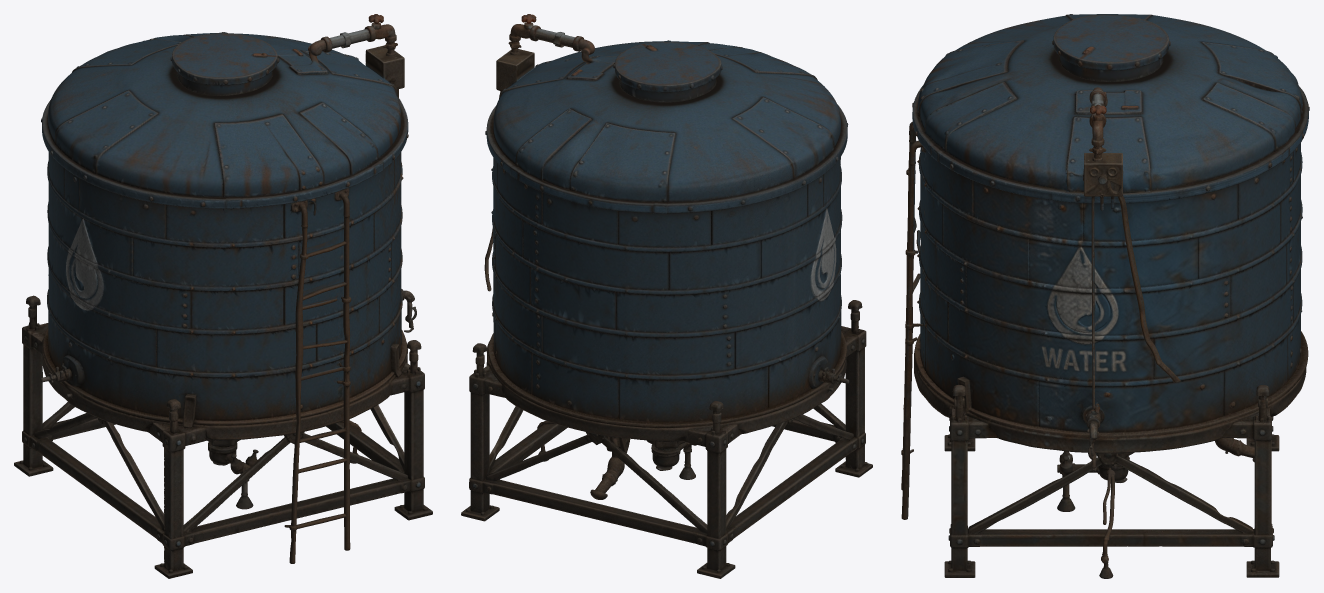
Rendered from tank_water.glb.
The picture shows the model from 3 angles, left to right: view 1: azimuth 30°, elevation 25°; view 2: azimuth 150°, elevation 25°; view 3: azimuth 270°, elevation 25°; orthographic projection. The views are drawn at different scales.
Parts seen in each view (by area): view 1: tank_water; view 2: tank_water; view 3: tank_water.
Part boxes in pixels (bbox=[...]): tank_water: bbox=[14, 14, 432, 578]; tank_water: bbox=[461, 14, 872, 578]; tank_water: bbox=[901, 14, 1309, 578].
Size of the model in its own units: 164 by 190 by 147.
Materials: 1 (1 with a texture image).
